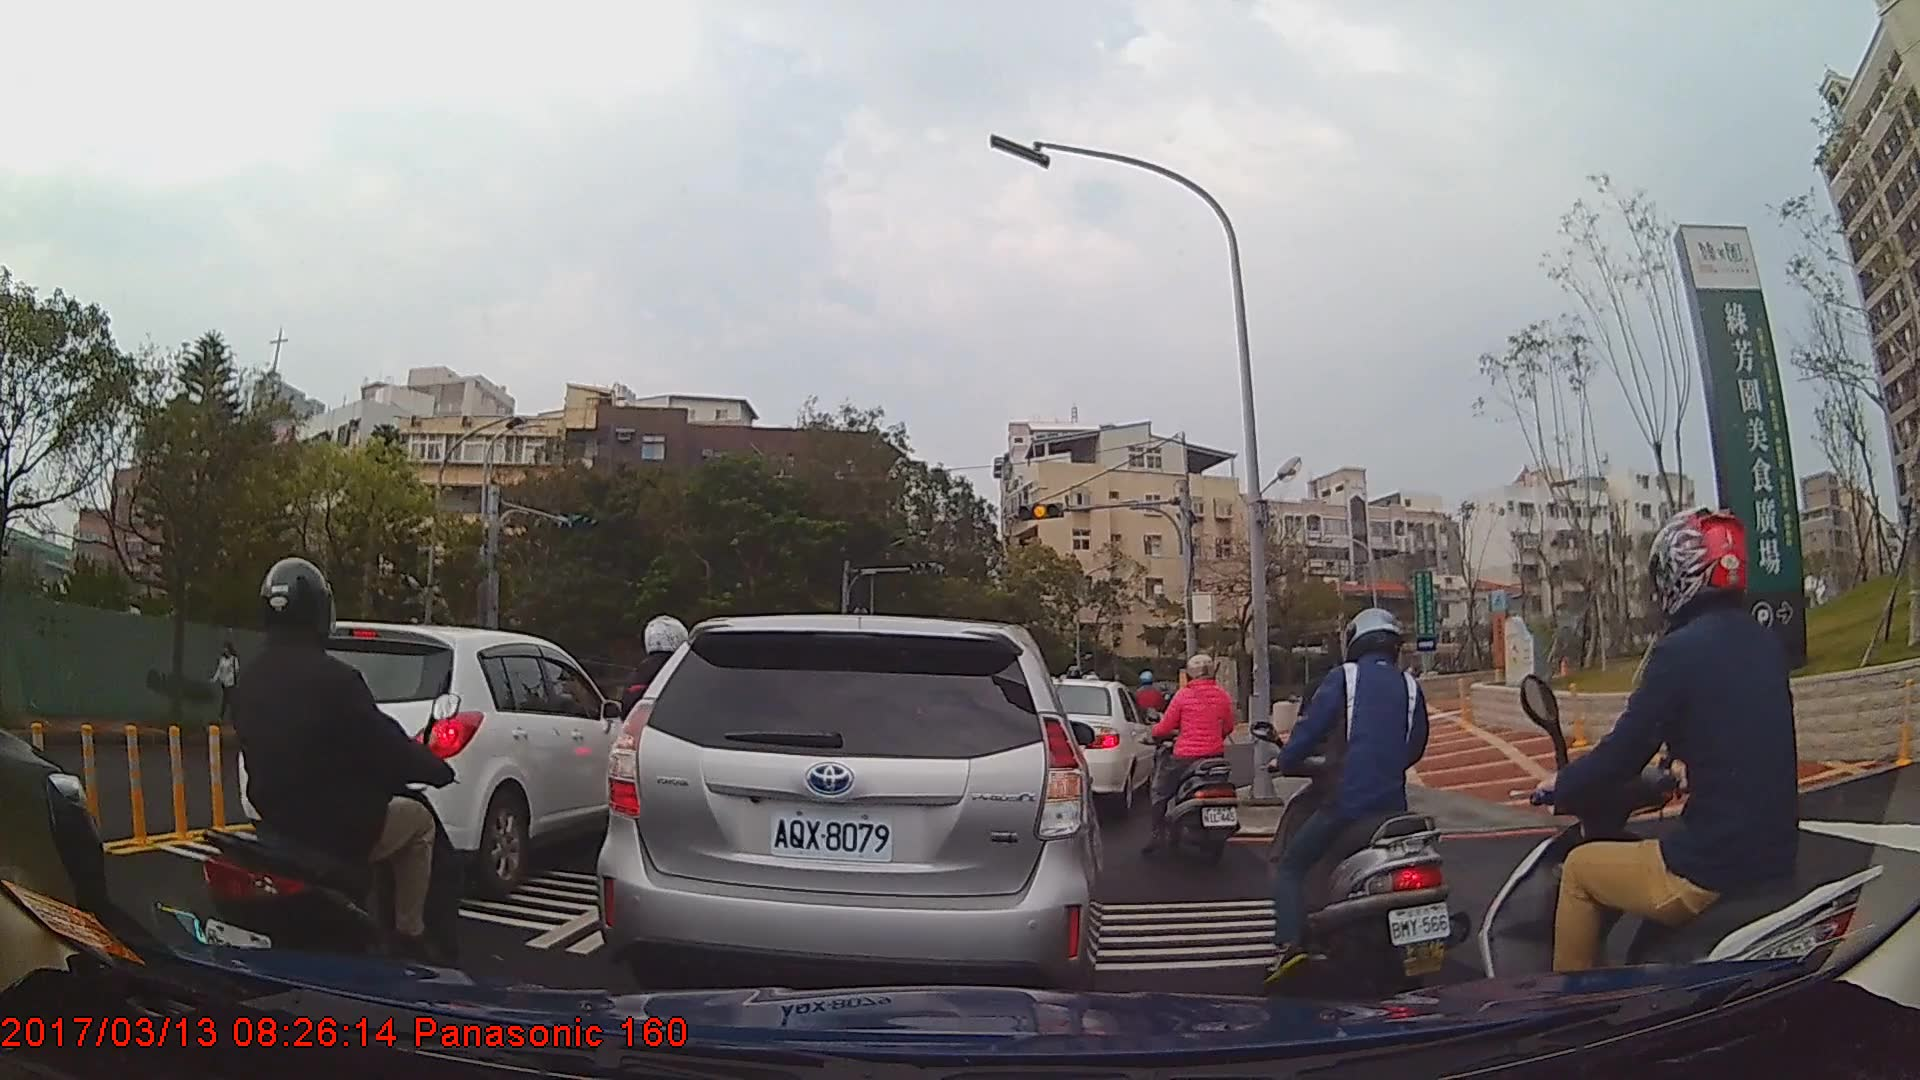pedestrian: (210, 643, 245, 722)
rider: (1475, 507, 1891, 1056), (199, 558, 473, 1026), (1259, 606, 1457, 996), (1134, 652, 1243, 865)
vehicle: (595, 613, 1103, 997), (260, 619, 637, 888), (1049, 677, 1157, 812)
